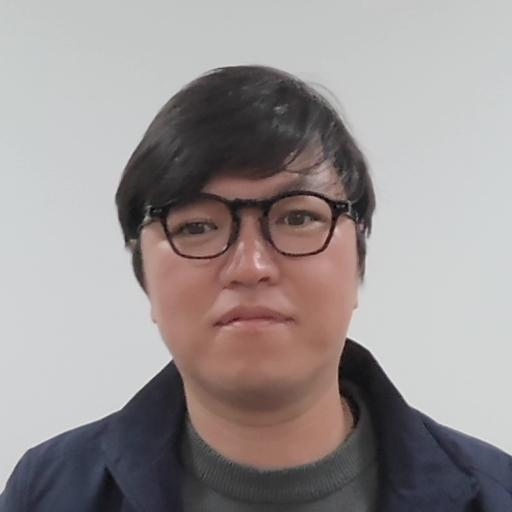no_glasses: (110, 65, 390, 410)
